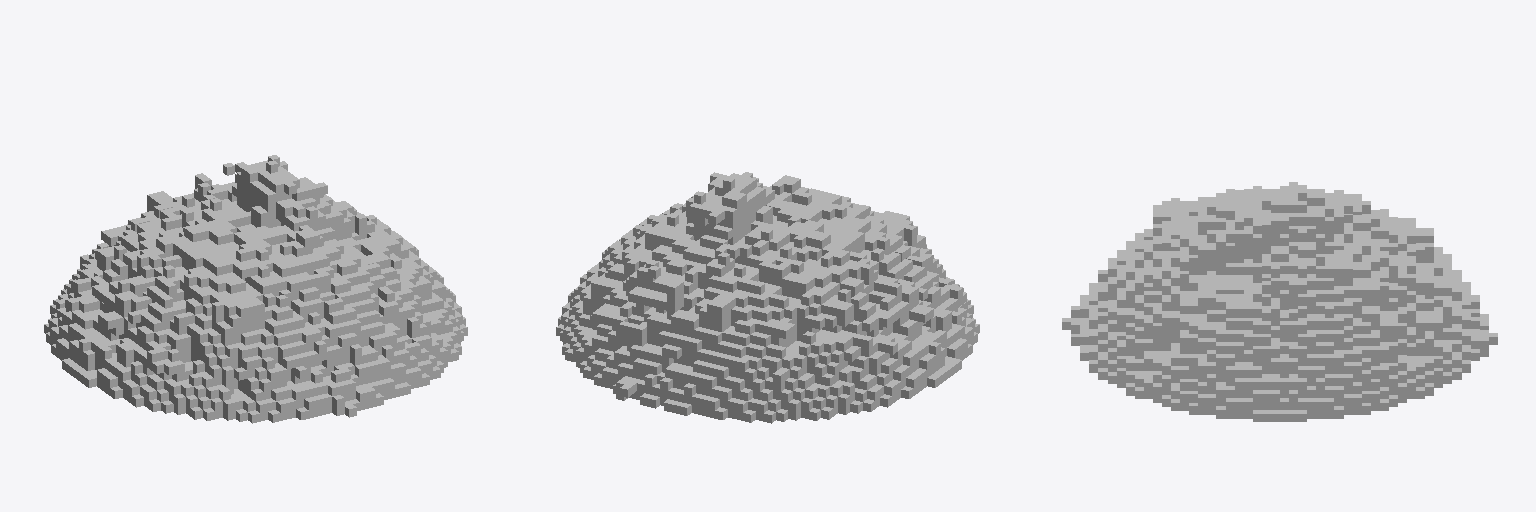
Rendered from rocher 1.obj.
3 renders of one model, left to right at view 1: azimuth 30°, elevation 25°; view 2: azimuth 150°, elevation 25°; view 3: azimuth 270°, elevation 25°, orthographic.
Parts seen in each view (by area): view 1: object 1; view 2: object 1; view 3: object 1.
Part boxes in pixels (x1,y1,x2,y2): object 1: (44,155,467,423); object 1: (556,172,979,423); object 1: (1062,182,1497,421).
Bounding box in the file's own units: 4.6 × 1.9 × 4.8.